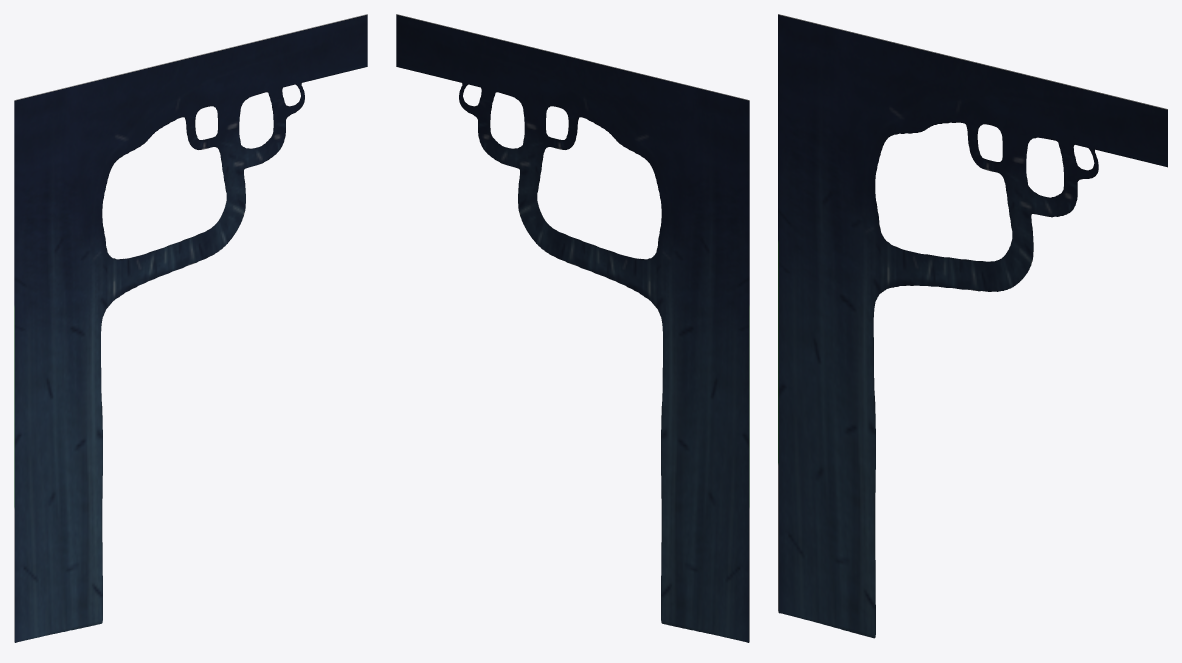
The model's file is Arbre_01.fbx.
3 renders of one model, left to right at view 1: azimuth 30°, elevation 25°; view 2: azimuth 150°, elevation 25°; view 3: azimuth 330°, elevation 25°, orthographic. The views are drawn at different scales.
Parts seen in each view (by area): view 1: Arbre_08; view 2: Arbre_08; view 3: Arbre_08.
Boxes of the visible parts, x1,y1,x2,y2 form: Arbre_08: [14, 14, 367, 642]; Arbre_08: [396, 14, 749, 642]; Arbre_08: [778, 14, 1167, 638].
Size of the model in its own units: 10.45 by 15.5 by 0.
